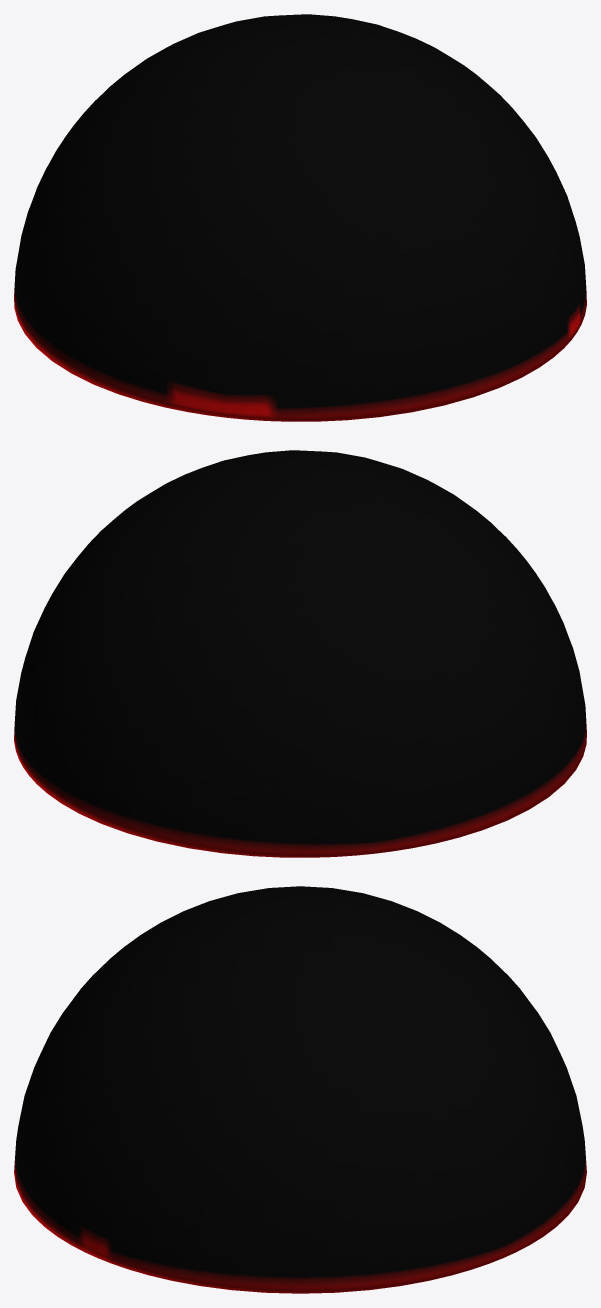
Rendered from S_WaterSphere.fbx.
3 renders of one model, top to bottom at view 1: azimuth 30°, elevation 25°; view 2: azimuth 150°, elevation 25°; view 3: azimuth 270°, elevation 25°, orthographic.
Parts seen in each view (by area): view 1: WaterSphere; view 2: WaterSphere; view 3: WaterSphere.
Boxes of the visible parts, box(x1,y1,x2,y2) form: WaterSphere: box(14, 14, 586, 421); WaterSphere: box(14, 450, 586, 857); WaterSphere: box(14, 886, 586, 1293).
Size of the model in its own units: 100 by 50 by 100.
